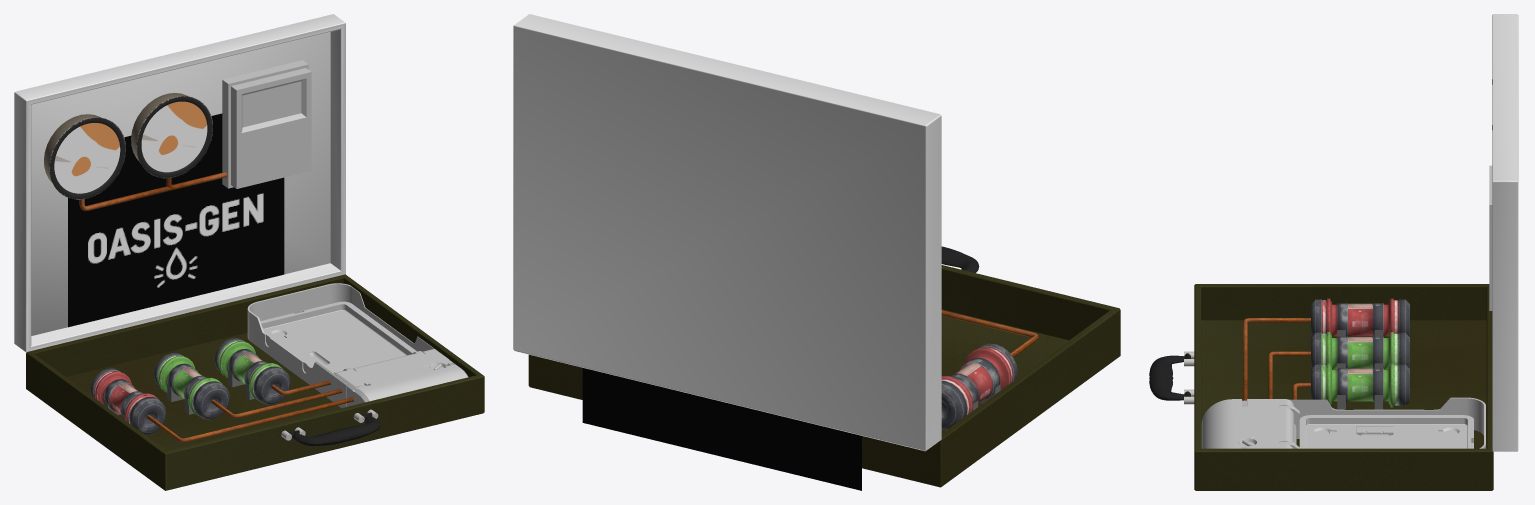
File: Oasis_Gen01.fbx
3 renders of one model, left to right at view 1: azimuth 30°, elevation 25°; view 2: azimuth 150°, elevation 25°; view 3: azimuth 270°, elevation 25°, orthographic. The views are drawn at different scales.
Visible parts, largest first — view 1: BRIEFCASE_UP, BRIEFCASE_DOWN, Logo, Power, KeyPad, gaugeGlass, gaugeGlass.001, BioFilter2, BioFilter, Filter, gaugeMain, gaugeMain.001 (+4 smaller); view 2: BRIEFCASE_UP, BRIEFCASE_DOWN, Logo, Filter, Pipe1; view 3: BRIEFCASE_DOWN, Power, BRIEFCASE_UP, BioFilter, Filter, BioFilter2, BRIEFCASE_HANDLE, Pipe1, KeyPad, Pipe2.
Part boxes in pixels (x1=…): BRIEFCASE_UP: x1=14, y1=14, x2=345, y2=352; BRIEFCASE_DOWN: x1=26, y1=274, x2=484, y2=490; Logo: x1=68, y1=113, x2=284, y2=327; Power: x1=247, y1=283, x2=468, y2=408; KeyPad: x1=222, y1=60, x2=311, y2=188; gaugeGlass: x1=141, y1=101, x2=207, y2=172; gaugeGlass.001: x1=54, y1=123, x2=120, y2=193; BioFilter2: x1=154, y1=353, x2=229, y2=419; BioFilter: x1=214, y1=338, x2=290, y2=404; Filter: x1=90, y1=368, x2=166, y2=435; gaugeMain: x1=131, y1=93, x2=212, y2=178; gaugeMain.001: x1=44, y1=114, x2=125, y2=199; BRIEFCASE_UP: x1=513, y1=14, x2=941, y2=451; BRIEFCASE_DOWN: x1=528, y1=265, x2=1120, y2=487; Logo: x1=582, y1=368, x2=861, y2=490; Filter: x1=941, y1=343, x2=1017, y2=430; Pipe1: x1=941, y1=310, x2=1038, y2=357; BRIEFCASE_DOWN: x1=1194, y1=284, x2=1493, y2=490; Power: x1=1201, y1=397, x2=1485, y2=448; BRIEFCASE_UP: x1=1492, y1=14, x2=1518, y2=451; BioFilter: x1=1311, y1=363, x2=1409, y2=407; Filter: x1=1311, y1=298, x2=1409, y2=336; BioFilter2: x1=1311, y1=332, x2=1409, y2=369; BRIEFCASE_HANDLE: x1=1149, y1=353, x2=1190, y2=400; Pipe1: x1=1243, y1=318, x2=1310, y2=400; KeyPad: x1=1489, y1=165, x2=1492, y2=310; Pipe2: x1=1268, y1=351, x2=1310, y2=398.
Size of the model in its own units: 69.95 by 61.98 by 65.46.
